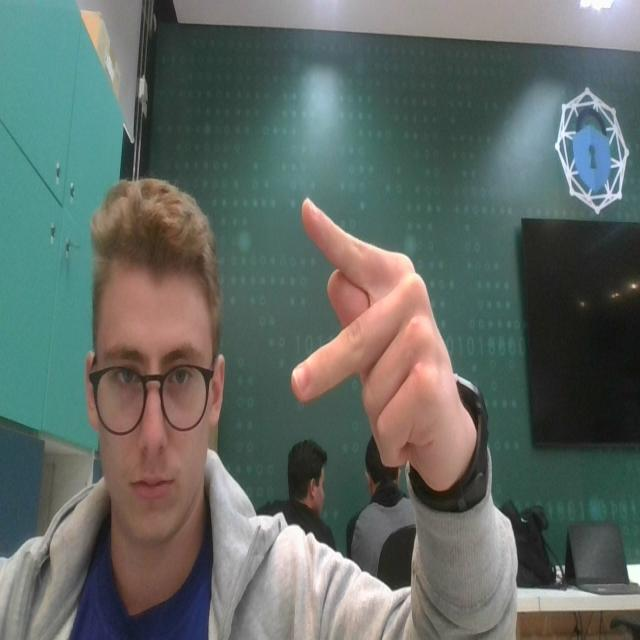P: (290, 194, 460, 478)
